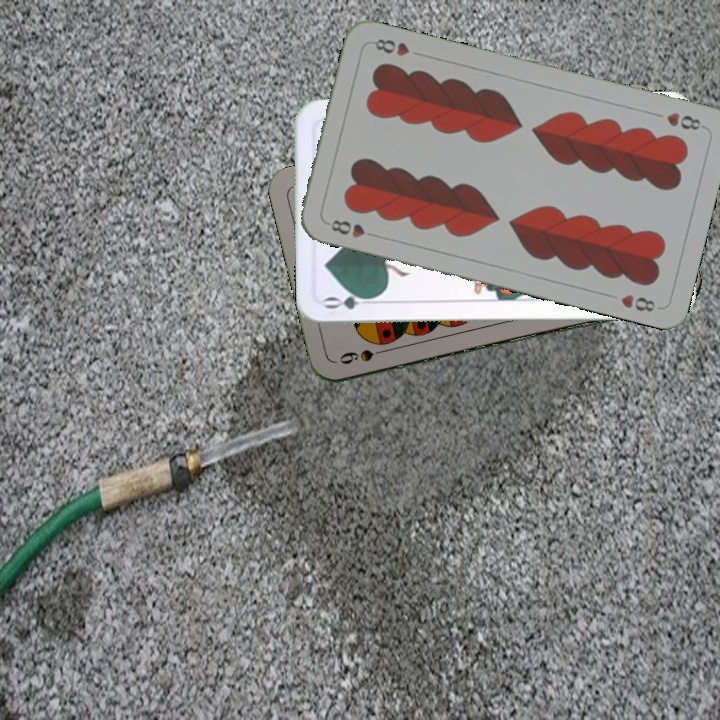GO: (321, 291, 380, 312)
H8: (326, 215, 381, 240), (662, 108, 708, 133)
S9: (335, 344, 393, 367)
